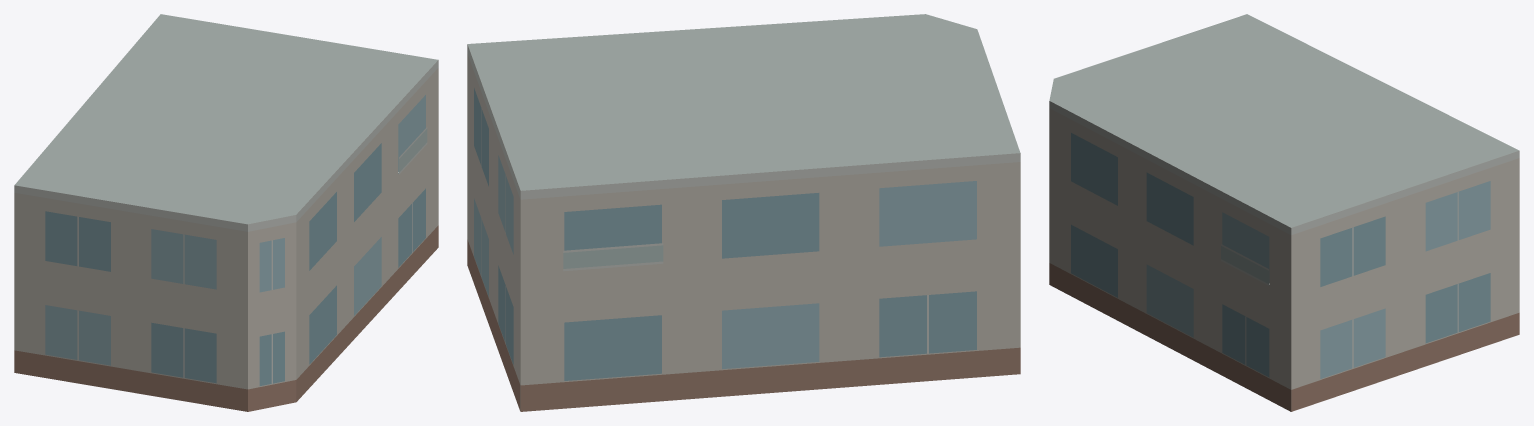
Rendered from survey-upis-32918603.glb.
The picture shows the model from 3 angles, left to right: view 1: azimuth 30°, elevation 25°; view 2: azimuth 150°, elevation 25°; view 3: azimuth 270°, elevation 25°; orthographic projection. The views are drawn at different scales.
Parts seen in each view (by area): view 1: survey-upis-32918603.tmp; view 2: survey-upis-32918603.tmp; view 3: survey-upis-32918603.tmp.
Part boxes in pixels (<box>): survey-upis-32918603.tmp: <box>14,14,438,411</box>; survey-upis-32918603.tmp: <box>467,14,1020,411</box>; survey-upis-32918603.tmp: <box>1049,14,1519,411</box>.
Size of the model in its own units: 15.22 by 6.1 by 14.14.
